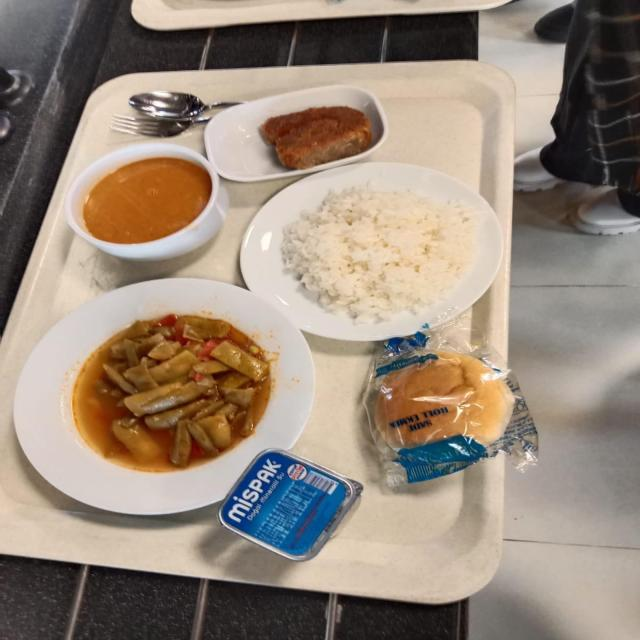ana_yemek: (12, 279, 314, 513), (239, 162, 502, 336)
corba: (61, 143, 225, 260)
yan_yemek: (204, 84, 386, 182)
